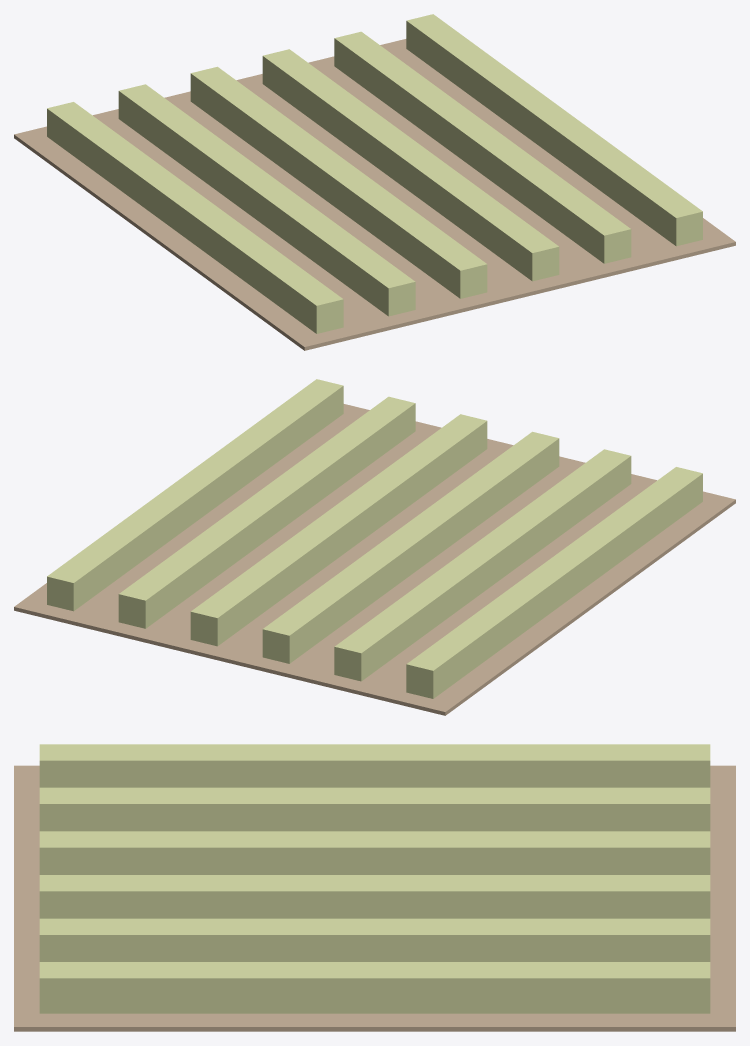
Rendered from crop_patch.glb.
The picture shows the model from 3 angles, top to bottom: view 1: azimuth 30°, elevation 25°; view 2: azimuth 150°, elevation 25°; view 3: azimuth 270°, elevation 25°; orthographic projection. The views are drawn at different scales.
Visible parts, largest first — view 1: crop_patch__soil, crop_patch__crop_row.001, crop_patch__crop_row.004, crop_patch__crop_row.003, crop_patch__crop_row.002, crop_patch__crop_row, crop_patch__crop_row.005; view 2: crop_patch__soil, crop_patch__crop_row.001, crop_patch__crop_row.004, crop_patch__crop_row.003, crop_patch__crop_row.002, crop_patch__crop_row, crop_patch__crop_row.005; view 3: crop_patch__crop_row.005, crop_patch__crop_row.001, crop_patch__crop_row, crop_patch__crop_row.002, crop_patch__crop_row.003, crop_patch__crop_row.004, crop_patch__soil.
Part boxes in pixels (<box>): crop_patch__soil: <box>14,39,735,350</box>; crop_patch__crop_row.001: <box>118,84,415,316</box>; crop_patch__crop_row.004: <box>334,31,631,263</box>; crop_patch__crop_row.003: <box>262,49,559,281</box>; crop_patch__crop_row.002: <box>190,66,487,298</box>; crop_patch__crop_row: <box>47,102,343,333</box>; crop_patch__crop_row.005: <box>406,14,702,246</box>; crop_patch__soil: <box>14,404,735,715</box>; crop_patch__crop_row.001: <box>334,449,631,681</box>; crop_patch__crop_row.004: <box>118,396,415,628</box>; crop_patch__crop_row.003: <box>190,414,487,646</box>; crop_patch__crop_row.002: <box>262,431,559,663</box>; crop_patch__crop_row: <box>406,467,702,698</box>; crop_patch__crop_row.005: <box>47,379,343,611</box>; crop_patch__crop_row.005: <box>39,962,710,1013</box>; crop_patch__crop_row.001: <box>39,787,710,831</box>; crop_patch__crop_row: <box>39,744,710,787</box>; crop_patch__crop_row.002: <box>39,831,710,874</box>; crop_patch__crop_row.003: <box>39,875,710,918</box>; crop_patch__crop_row.004: <box>39,918,710,961</box>; crop_patch__soil: <box>14,765,735,1031</box>.
Bounding box in the file's own units: 12 × 0.85 × 14.
